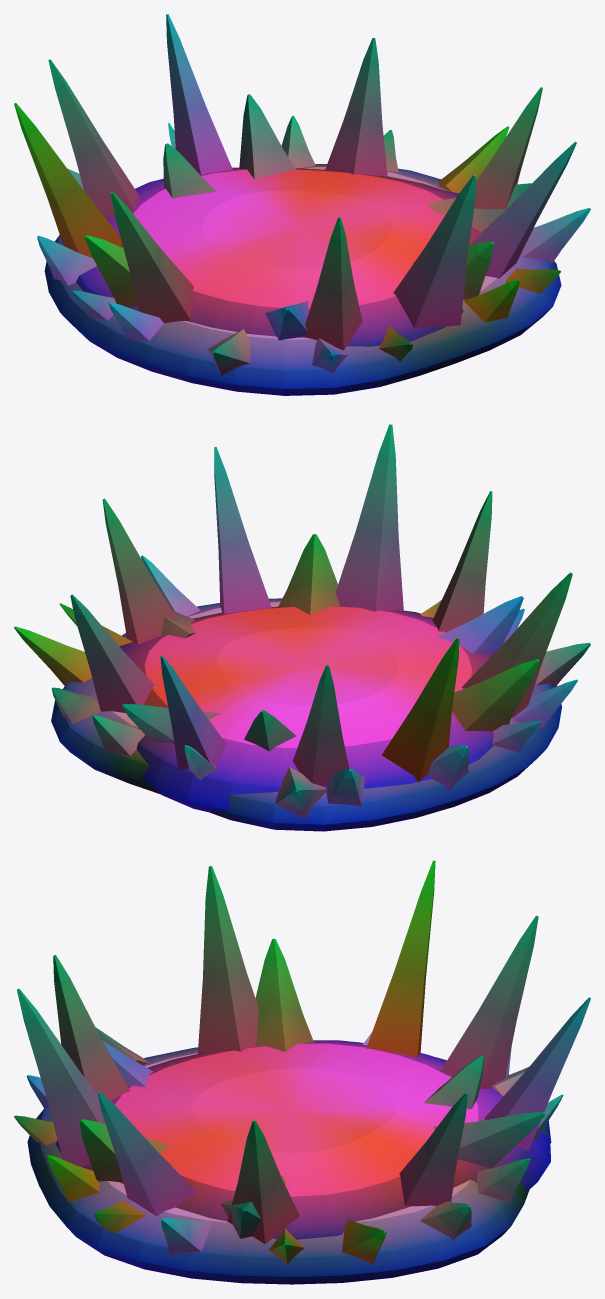
The model's file is frozen_statue_base.fbx.
3 views of the same model, one above another, from view 1: azimuth 30°, elevation 25°; view 2: azimuth 150°, elevation 25°; view 3: azimuth 270°, elevation 25° (orthographic). The views are drawn at different scales.
Parts seen in each view (by area): view 1: Mesh_FrozenBase_Spire_Shards, Mesh_FrozenBase_Spire_Plinth, Mesh_FrozenBase_Crust_Plinth, Mesh_FrozenBase_Crust_Shards, Mesh_FrozenBase_Shattered_Shards; view 2: Mesh_FrozenBase_Spire_Plinth, Mesh_FrozenBase_Spire_Shards, Mesh_FrozenBase_Crust_Plinth, Mesh_FrozenBase_Crust_Shards, Mesh_FrozenBase_Shattered_Shards; view 3: Mesh_FrozenBase_Spire_Shards, Mesh_FrozenBase_Spire_Plinth, Mesh_FrozenBase_Crust_Plinth, Mesh_FrozenBase_Shattered_Shards, Mesh_FrozenBase_Crust_Shards.
Part boxes in pixels (x1,y1,x2,y2): Mesh_FrozenBase_Spire_Shards: [14, 14, 576, 350]; Mesh_FrozenBase_Spire_Plinth: [76, 167, 482, 346]; Mesh_FrozenBase_Crust_Plinth: [44, 164, 561, 395]; Mesh_FrozenBase_Crust_Shards: [37, 115, 590, 375]; Mesh_FrozenBase_Shattered_Shards: [84, 94, 531, 340]; Mesh_FrozenBase_Spire_Plinth: [119, 606, 509, 812]; Mesh_FrozenBase_Spire_Shards: [70, 424, 572, 786]; Mesh_FrozenBase_Crust_Plinth: [51, 598, 561, 831]; Mesh_FrozenBase_Crust_Shards: [14, 555, 590, 818]; Mesh_FrozenBase_Shattered_Shards: [122, 534, 538, 751]; Mesh_FrozenBase_Spire_Shards: [17, 860, 590, 1243]; Mesh_FrozenBase_Spire_Plinth: [56, 1040, 550, 1239]; Mesh_FrozenBase_Crust_Plinth: [27, 1047, 551, 1284]; Mesh_FrozenBase_Shattered_Shards: [79, 938, 545, 1238]; Mesh_FrozenBase_Crust_Shards: [14, 1027, 563, 1264].
Size of the model in its own units: 112 by 46.63 by 109.
